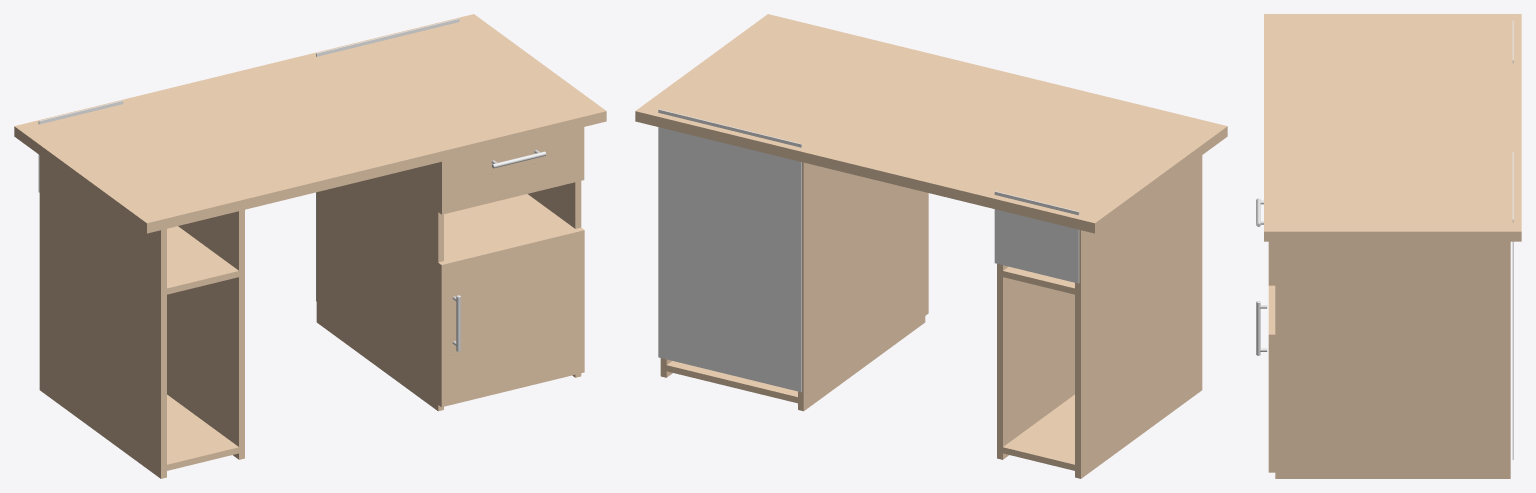
Rendered from computer_desk.dae.
3 renders of one model, left to right at view 1: azimuth 30°, elevation 25°; view 2: azimuth 150°, elevation 25°; view 3: azimuth 270°, elevation 25°, orthographic. The views are drawn at different scales.
Visible parts, largest first — view 1: mesh_1_comput, mesh_3_Imported17_face, mesh_2_Imported21_face; view 2: mesh_1_comput, mesh_3_Imported17_face; view 3: mesh_1_comput, mesh_3_Imported17_face, mesh_2_Imported21_face.
Part boxes in pixels (x1=…): mesh_1_comput: x1=14, y1=14, x2=606, y2=478; mesh_3_Imported17_face: x1=38, y1=18, x2=459, y2=301; mesh_2_Imported21_face: x1=452, y1=150, x2=546, y2=351; mesh_1_comput: x1=635, y1=14, x2=1227, y2=478; mesh_3_Imported17_face: x1=658, y1=109, x2=1079, y2=392; mesh_1_comput: x1=1264, y1=14, x2=1521, y2=478; mesh_3_Imported17_face: x1=1512, y1=20, x2=1513, y2=459; mesh_2_Imported21_face: x1=1256, y1=198, x2=1267, y2=355.
Size of the model in its own units: 1.4 by 0.7212 by 0.7793.
